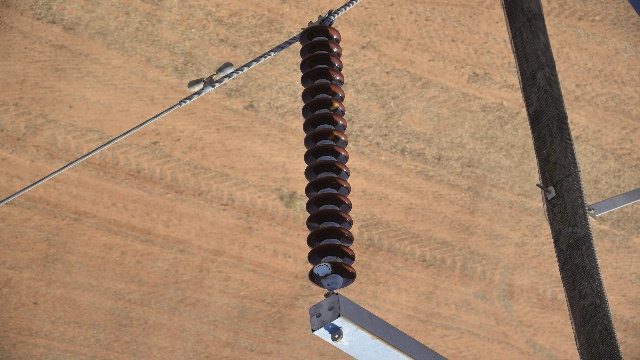insulator_unspecified: (296, 26, 356, 289)
pollution_flashover_local: (313, 263, 332, 274), (329, 101, 339, 111), (328, 132, 336, 141), (306, 191, 317, 197), (307, 221, 319, 226)
